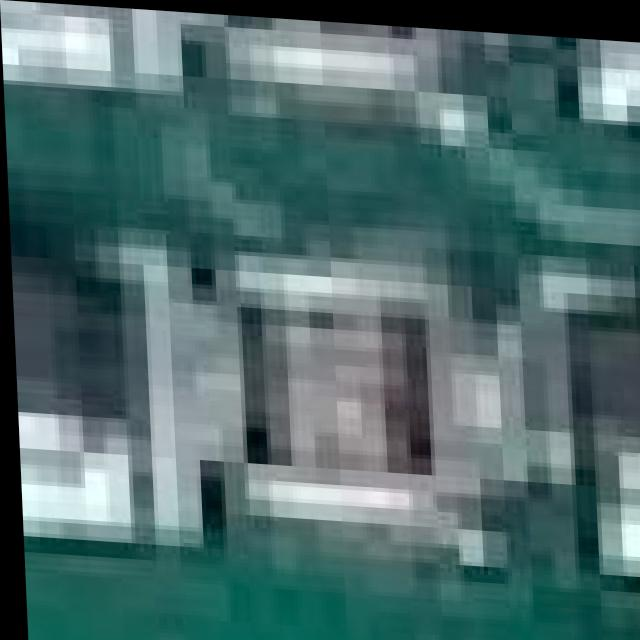resistor: (210, 247, 446, 524), (252, 13, 449, 59)
transistor: (7, 212, 161, 508), (560, 245, 640, 550), (0, 0, 130, 71), (576, 30, 640, 82)
